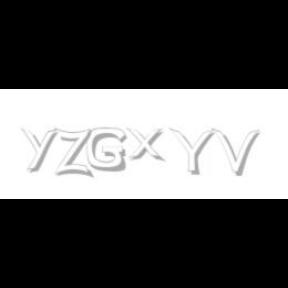G: (86, 128, 126, 172)
V: (212, 128, 260, 176)
Y: (169, 128, 215, 176)
Z: (54, 128, 92, 178)
x: (126, 128, 168, 162)
y: (21, 128, 61, 172)
